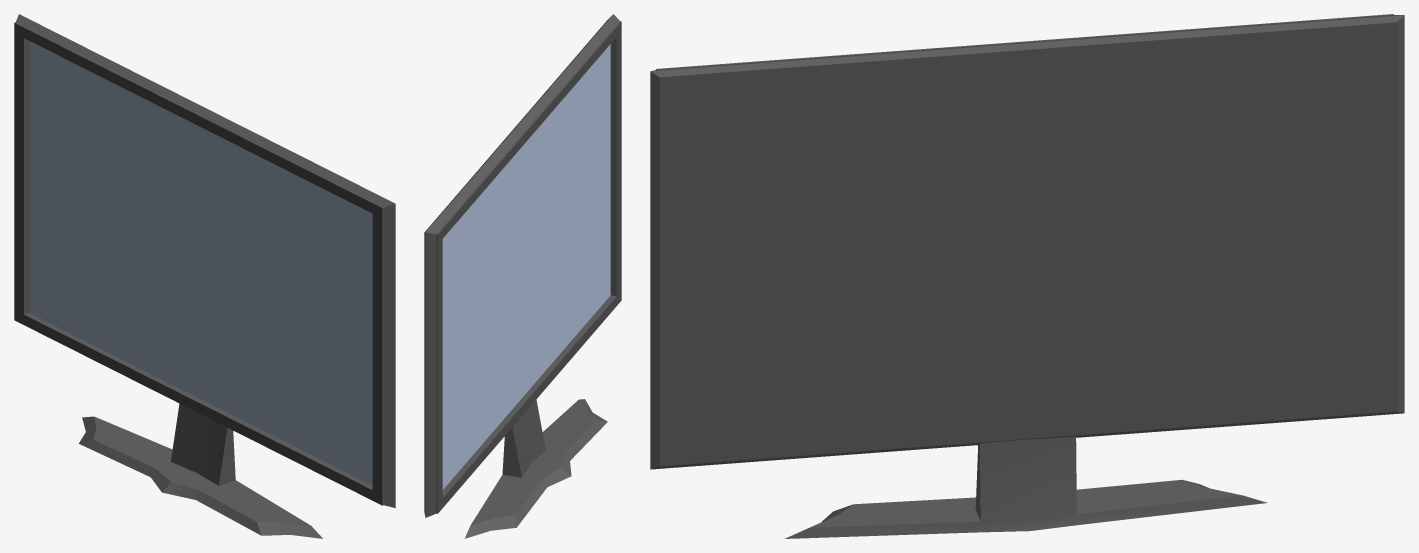
The model's file is Security Room Monitor.fbx.
The picture shows the model from 3 angles, left to right: view 1: azimuth 30°, elevation 25°; view 2: azimuth 150°, elevation 25°; view 3: azimuth 270°, elevation 25°; orthographic projection. The views are drawn at different scales.
Visible parts, largest first — view 1: Monitor.001; view 2: Monitor.001; view 3: Monitor.001.
Part boxes in pixels (x1,y1,x2,y2): Monitor.001: (14,14,395,538); Monitor.001: (424,14,621,538); Monitor.001: (650,14,1404,538).
Bounding box in the file's own units: 23.58 × 75.99 × 108.
